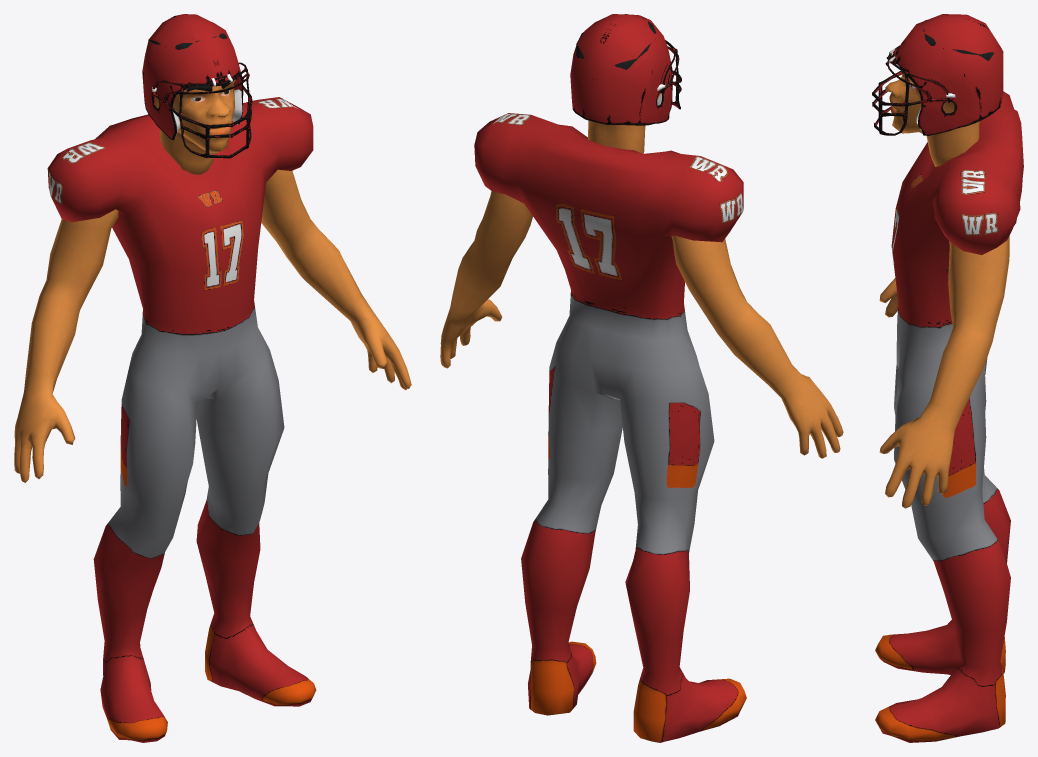
Rendered from redPlayer.glb.
3 renders of one model, left to right at view 1: azimuth 30°, elevation 25°; view 2: azimuth 150°, elevation 25°; view 3: azimuth 270°, elevation 25°, orthographic.
Parts seen in each view (by area): view 1: body_low, arms_low, Helmet_low, face_low; view 2: body_low, arms_low, Helmet_low, face_low; view 3: body_low, arms_low, Helmet_low, face_low.
Boxes of the visible parts, box(x1,y1,x2,y2) form: body_low: box(47, 97, 316, 742); arms_low: box(14, 169, 411, 482); Helmet_low: box(142, 14, 252, 158); face_low: box(148, 33, 235, 174); body_low: box(474, 113, 746, 742); arms_low: box(440, 191, 843, 458); Helmet_low: box(570, 14, 681, 125); face_low: box(576, 14, 660, 153); body_low: box(875, 91, 1023, 742); arms_low: box(879, 236, 1009, 508); Helmet_low: box(872, 14, 1003, 135); face_low: box(885, 20, 993, 166).
Bounding box in the file's own units: 28.09 × 47.57 × 9.59.
Materials: 2 (2 with a texture image).
